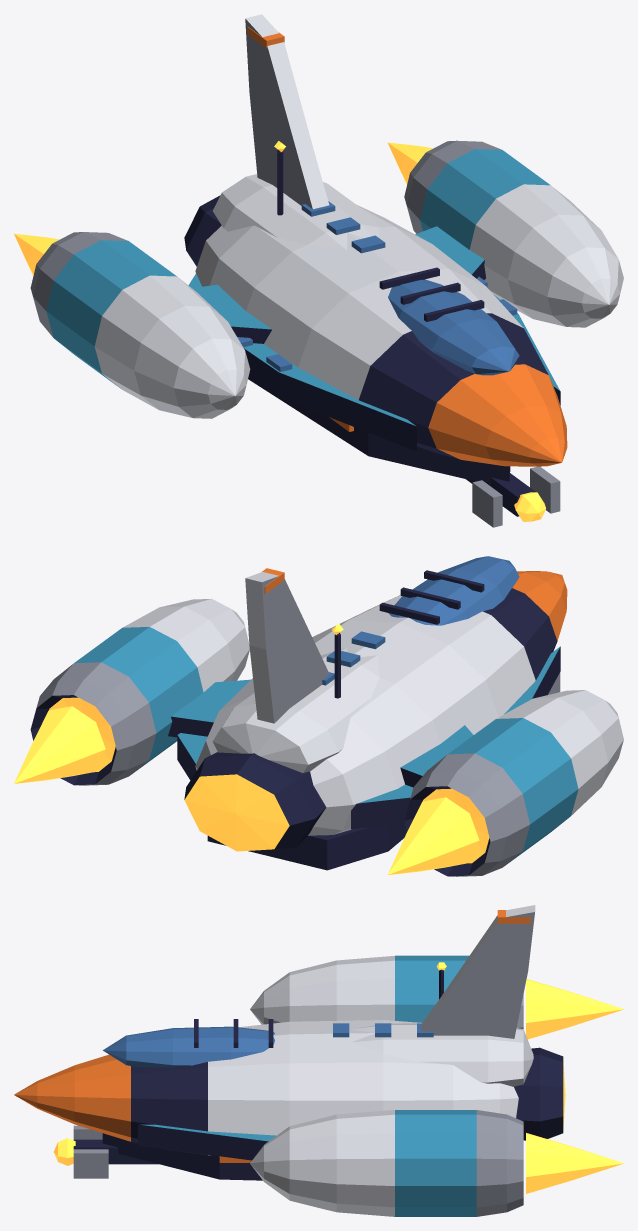
Rendered from rts.miner.glb.
3 renders of one model, top to bottom at view 1: azimuth 30°, elevation 25°; view 2: azimuth 150°, elevation 25°; view 3: azimuth 270°, elevation 25°, orthographic. The views are drawn at different scales.
Parts seen in each view (by area): view 1: rts.miner; view 2: rts.miner; view 3: rts.miner.
Boxes of the visible parts, x1,y1,x2,y2 form: rts.miner: [14, 14, 623, 527]; rts.miner: [14, 556, 623, 876]; rts.miner: [14, 905, 623, 1216].
Size of the model in its own units: 2.02 by 1.21 by 2.61.
